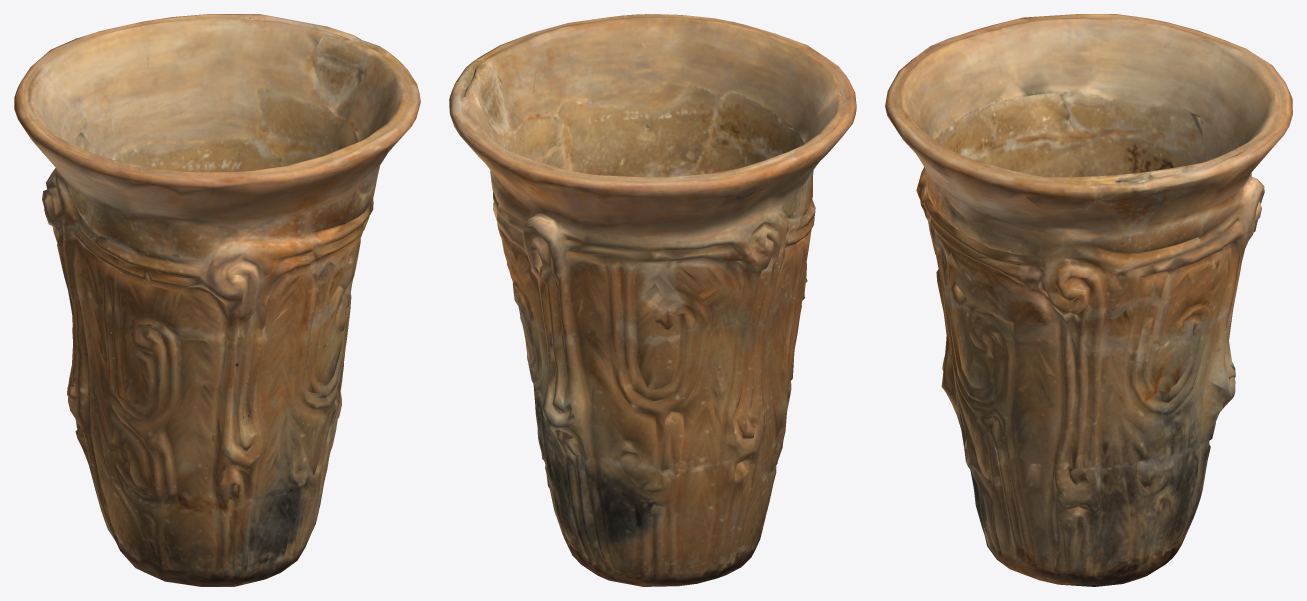
The picture shows the model from 3 angles, left to right: view 1: azimuth 30°, elevation 25°; view 2: azimuth 150°, elevation 25°; view 3: azimuth 270°, elevation 25°; orthographic projection.
Visible parts, largest first — view 1: NM0017_low; view 2: NM0017_low; view 3: NM0017_low.
Boxes of the visible parts, <box> form: NM0017_low: <box>14,14,420,586</box>; NM0017_low: <box>449,14,856,586</box>; NM0017_low: <box>885,14,1292,586</box>.
Bounding box in the file's own units: 177 × 219 × 176.
1 material, 1 textured.
